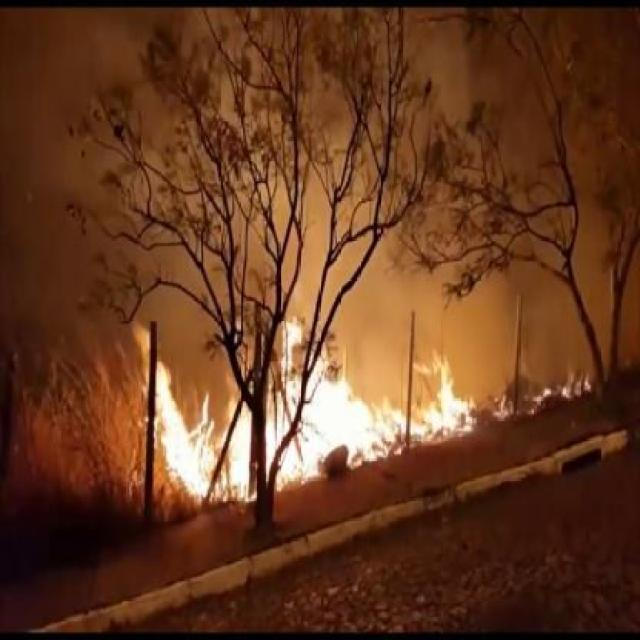Fire: (262, 318, 480, 492), (139, 320, 252, 498), (539, 372, 592, 402)
